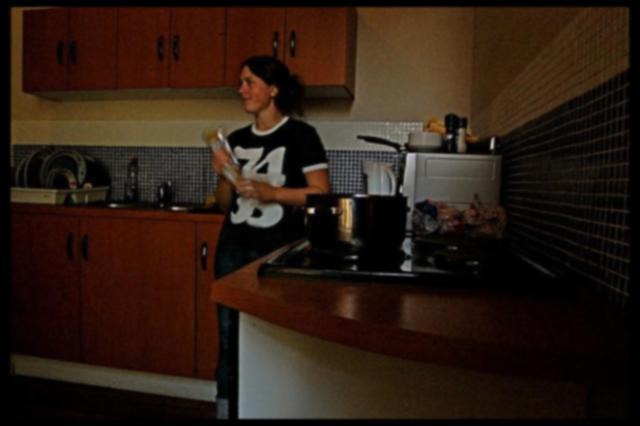Lavaplatos: (85, 152, 196, 219)
